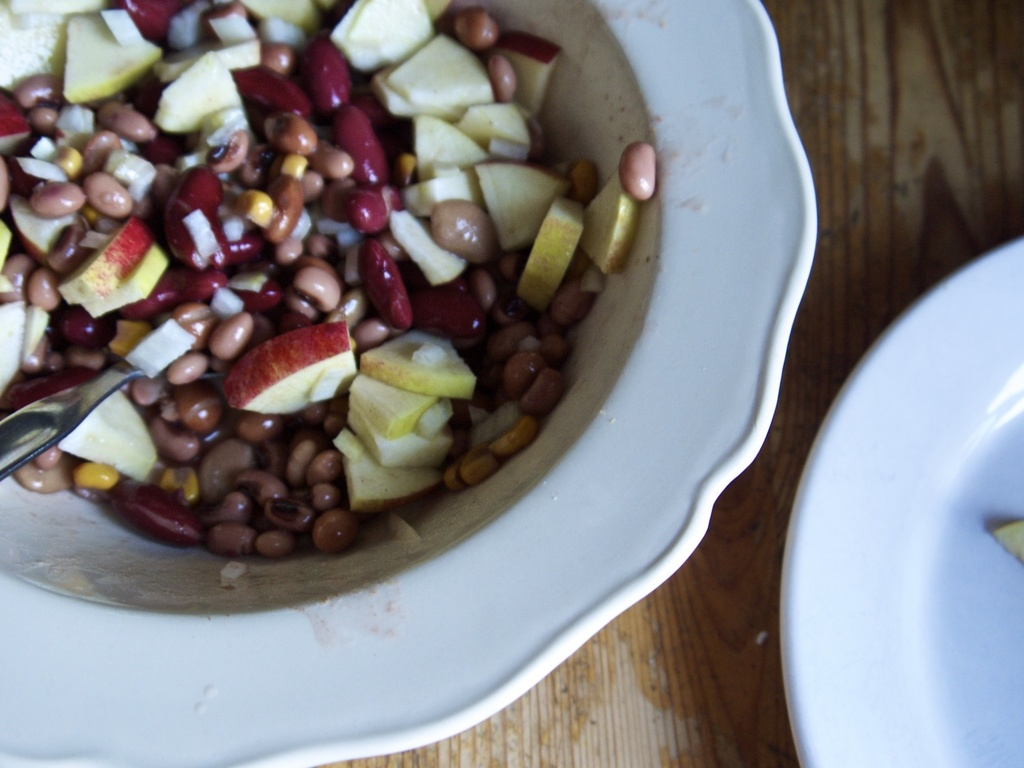Apple: (0, 0, 636, 504), (218, 320, 356, 415)
